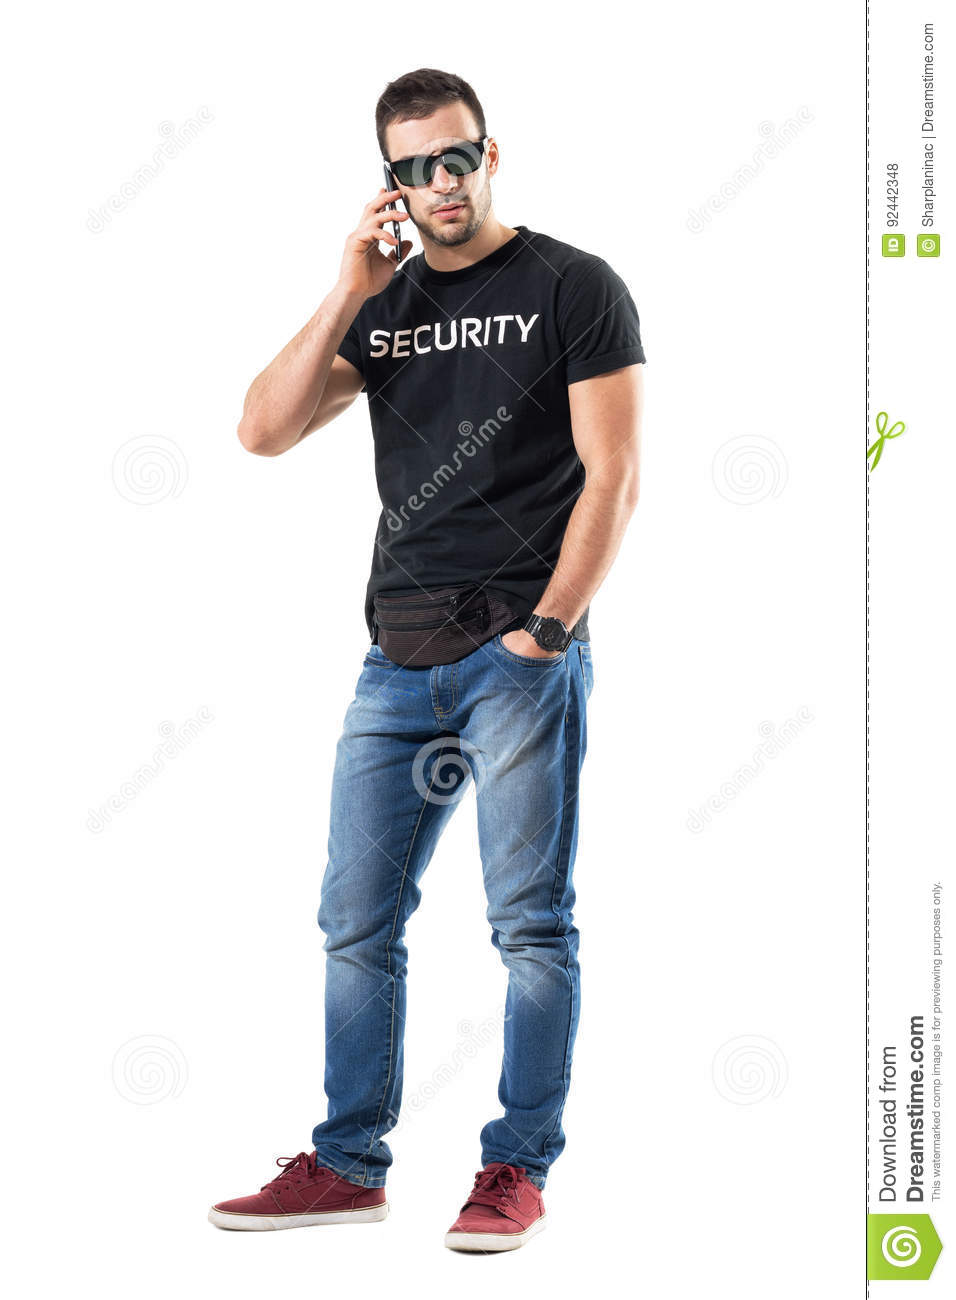phone: (371, 152, 411, 263)
talk: (338, 129, 493, 295)
